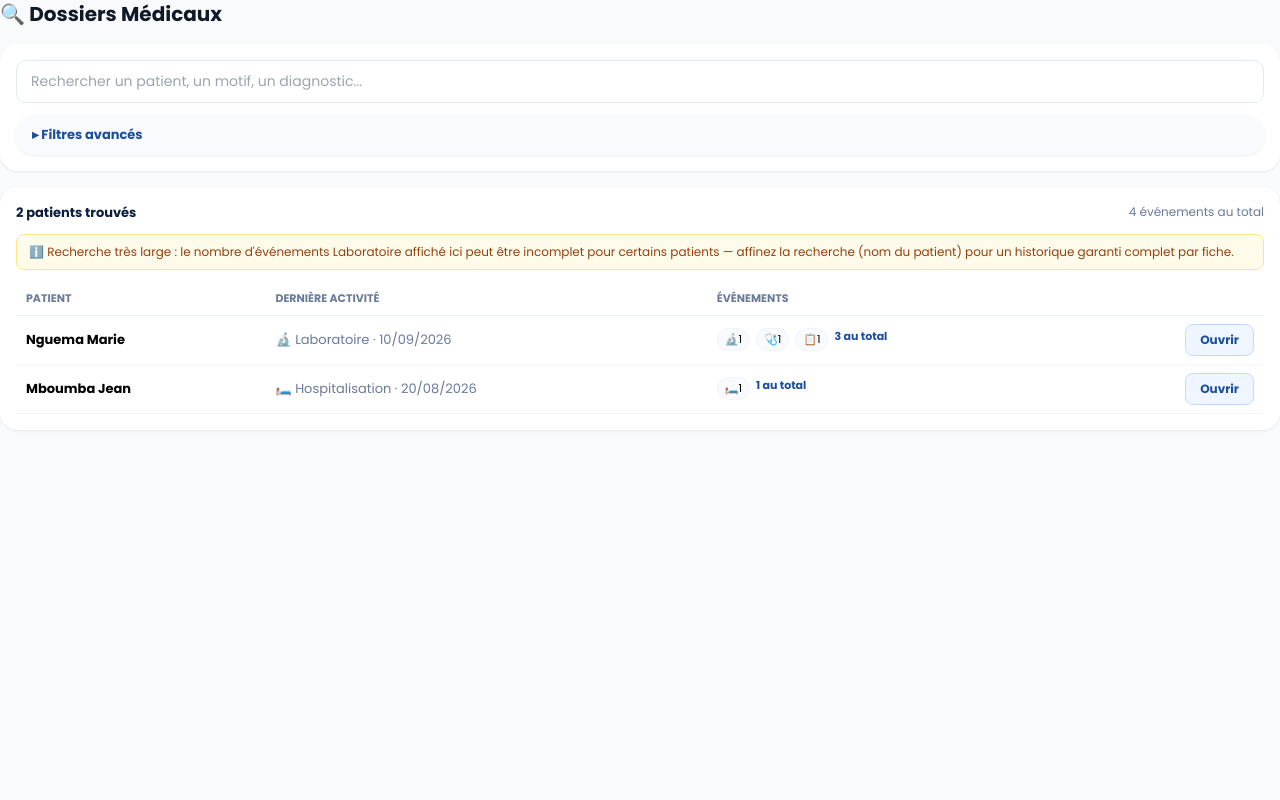
quand sourcesTruncated signale ce type pour ce patient, la fiche recharge l'historique complet ciblé (jamais une troncature silencieuse)
Expected: the text "Recherche très large" is shown, [29,243,333,260]
Click the button "Ouvrir" in the row of "Nguema Marie": [1220, 340] box [1185,324,1254,356]
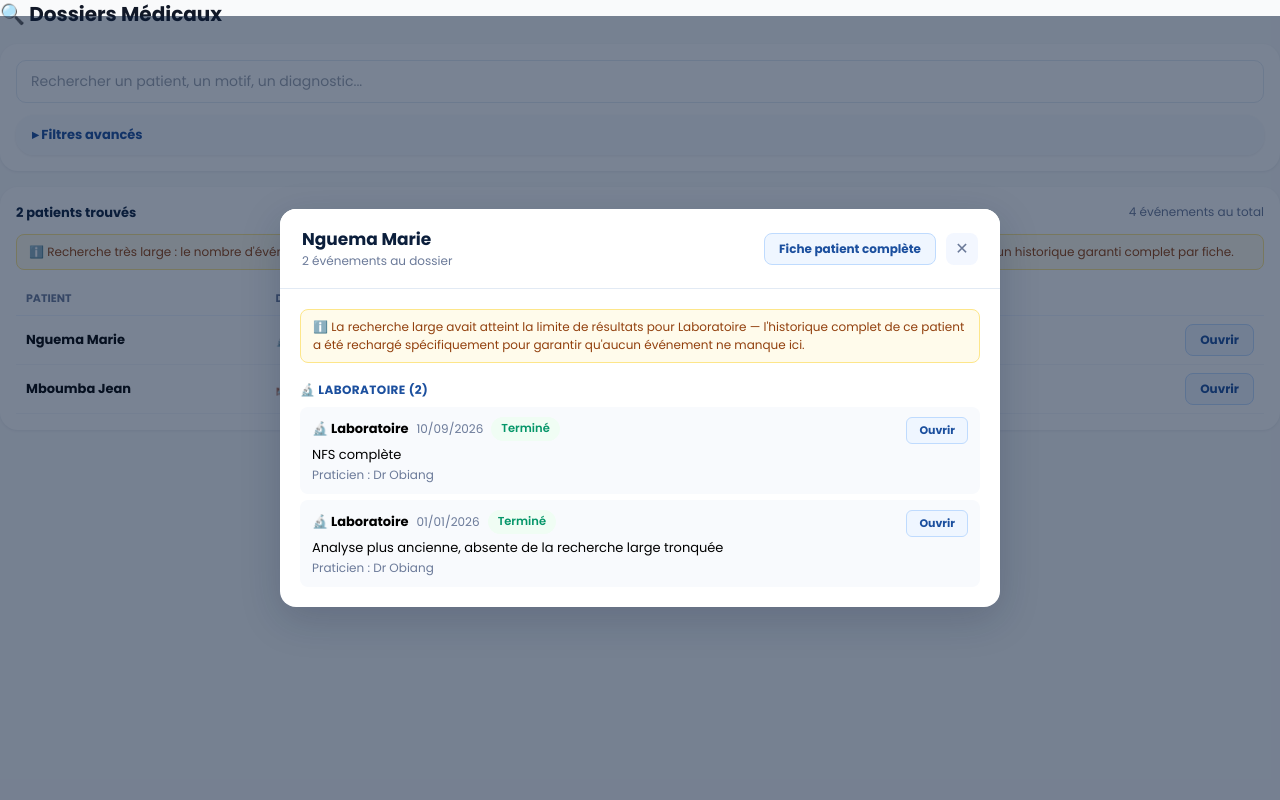
Now the text "Analyse plus ancienne, absente de la recherche large tronquée" is shown, box [312,538,723,556]
Now the text "historique complet de ce patient a été rechargé" is shown, box [313,318,964,354]
